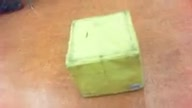cube: (65, 10, 145, 98)
